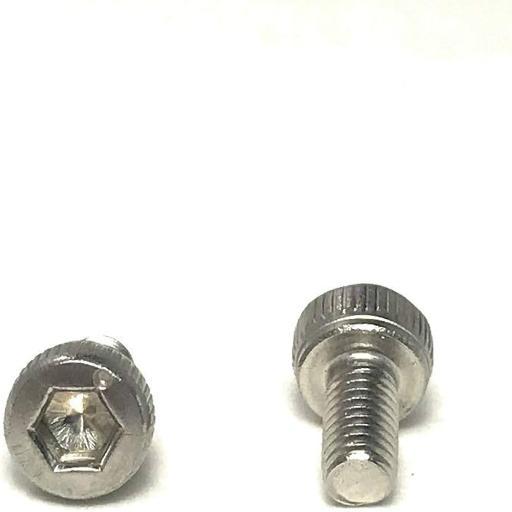Slotted: (4, 344, 154, 498)
